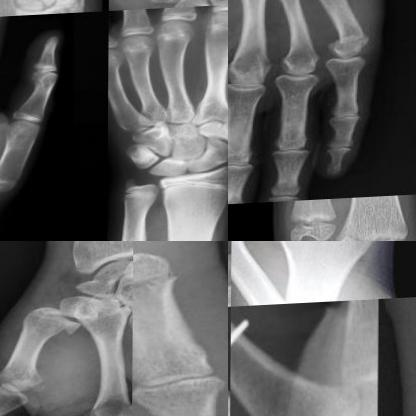fracture: (133, 265, 188, 320), (323, 31, 374, 67), (339, 199, 404, 218), (44, 312, 83, 341), (109, 56, 125, 69)
